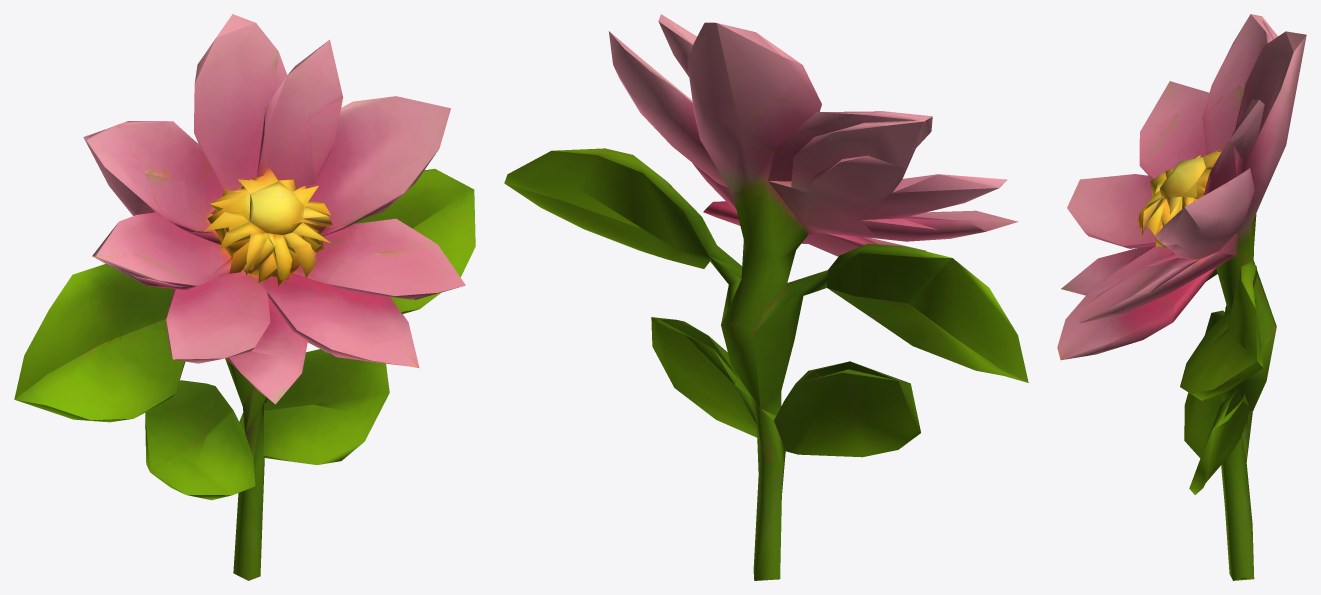
The model's file is magicFlower.glb.
3 renders of one model, left to right at view 1: azimuth 30°, elevation 25°; view 2: azimuth 150°, elevation 25°; view 3: azimuth 270°, elevation 25°, orthographic. The views are drawn at different scales.
Parts seen in each view (by area): view 1: model; view 2: model; view 3: model.
Part boxes in pixels (box(x1,y1,x2,y2)): model: box(14, 14, 475, 580); model: box(504, 14, 1028, 580); model: box(1057, 14, 1306, 580).
Size of the model in its own units: 1.74 by 1.88 by 0.7723.
1 material, 1 textured.
